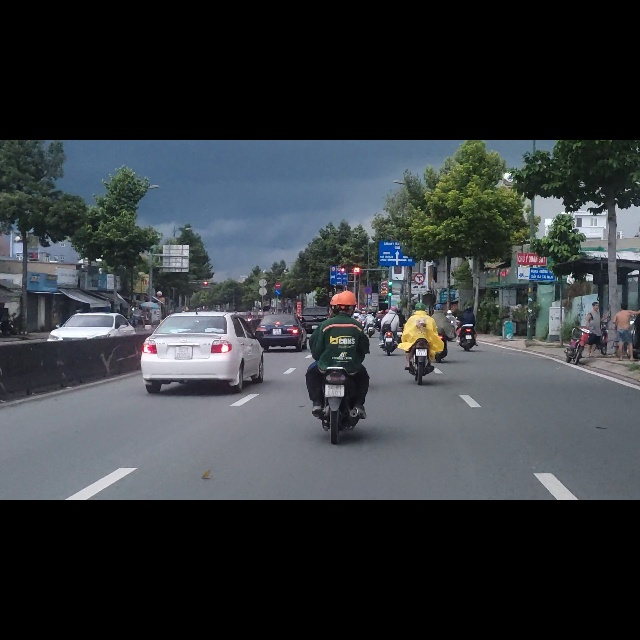bien_hieu_lenh: (330, 234, 348, 258), (414, 237, 425, 256), (275, 266, 282, 277), (275, 254, 281, 265)
